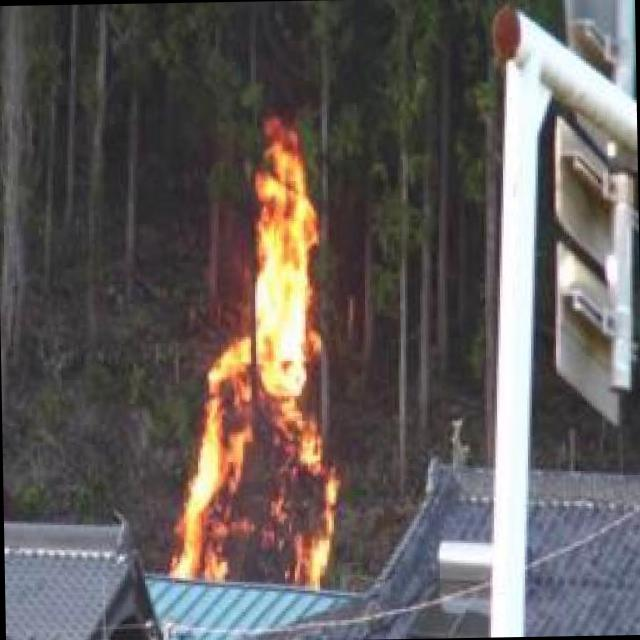Fire: (144, 107, 340, 590)
